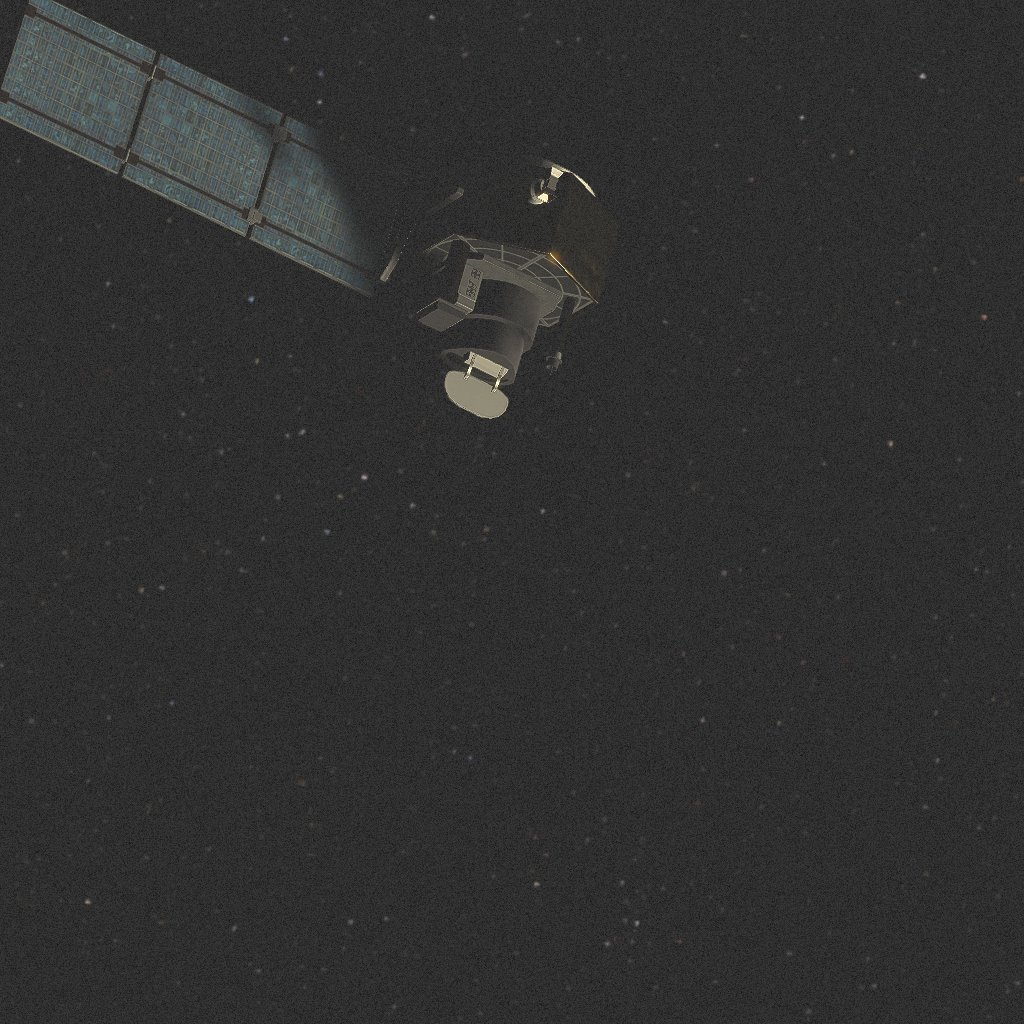earth_observation_sat_1: (0, 0, 620, 418)
